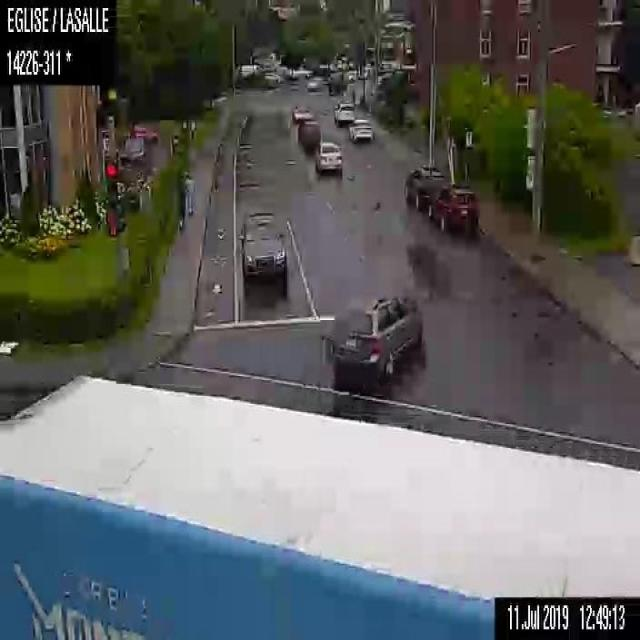pedestrian: (183, 172, 194, 215)
vehicle: (1, 372, 639, 636), (322, 284, 422, 383), (238, 209, 287, 283), (427, 186, 479, 236), (401, 164, 444, 209), (315, 142, 344, 174), (297, 120, 319, 151), (348, 116, 374, 142), (334, 100, 354, 126), (326, 72, 344, 97), (292, 106, 315, 124), (306, 76, 324, 92)
